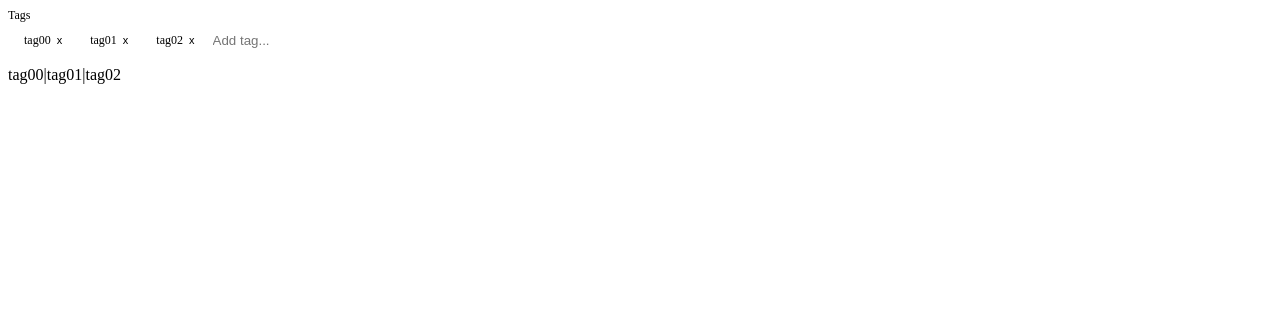
Test: TagInput: suggestion dropdown (spec: suggestion dropdown from tag history) › cap counts pickable suggestions only: exclusion applies before the top-10 cut
What coordinates should you click on to do the following:
click the field labelled "Tags"
I would click on:
 (739, 40)
Its box is [212,31,1266,50].
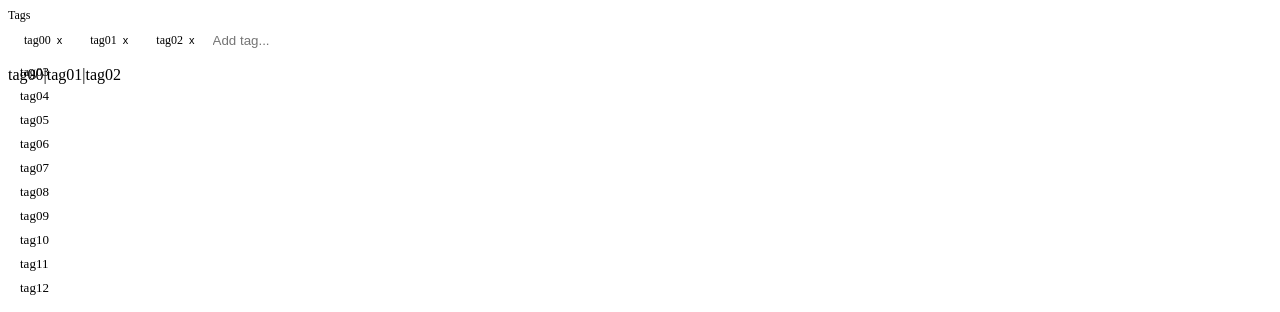
Now the option with class "movie-data-tag-suggestion" reads "tag03", box [20,64,49,79]
Now the option with class "movie-data-tag-suggestion" reads "tag12", box [20,280,49,295]
